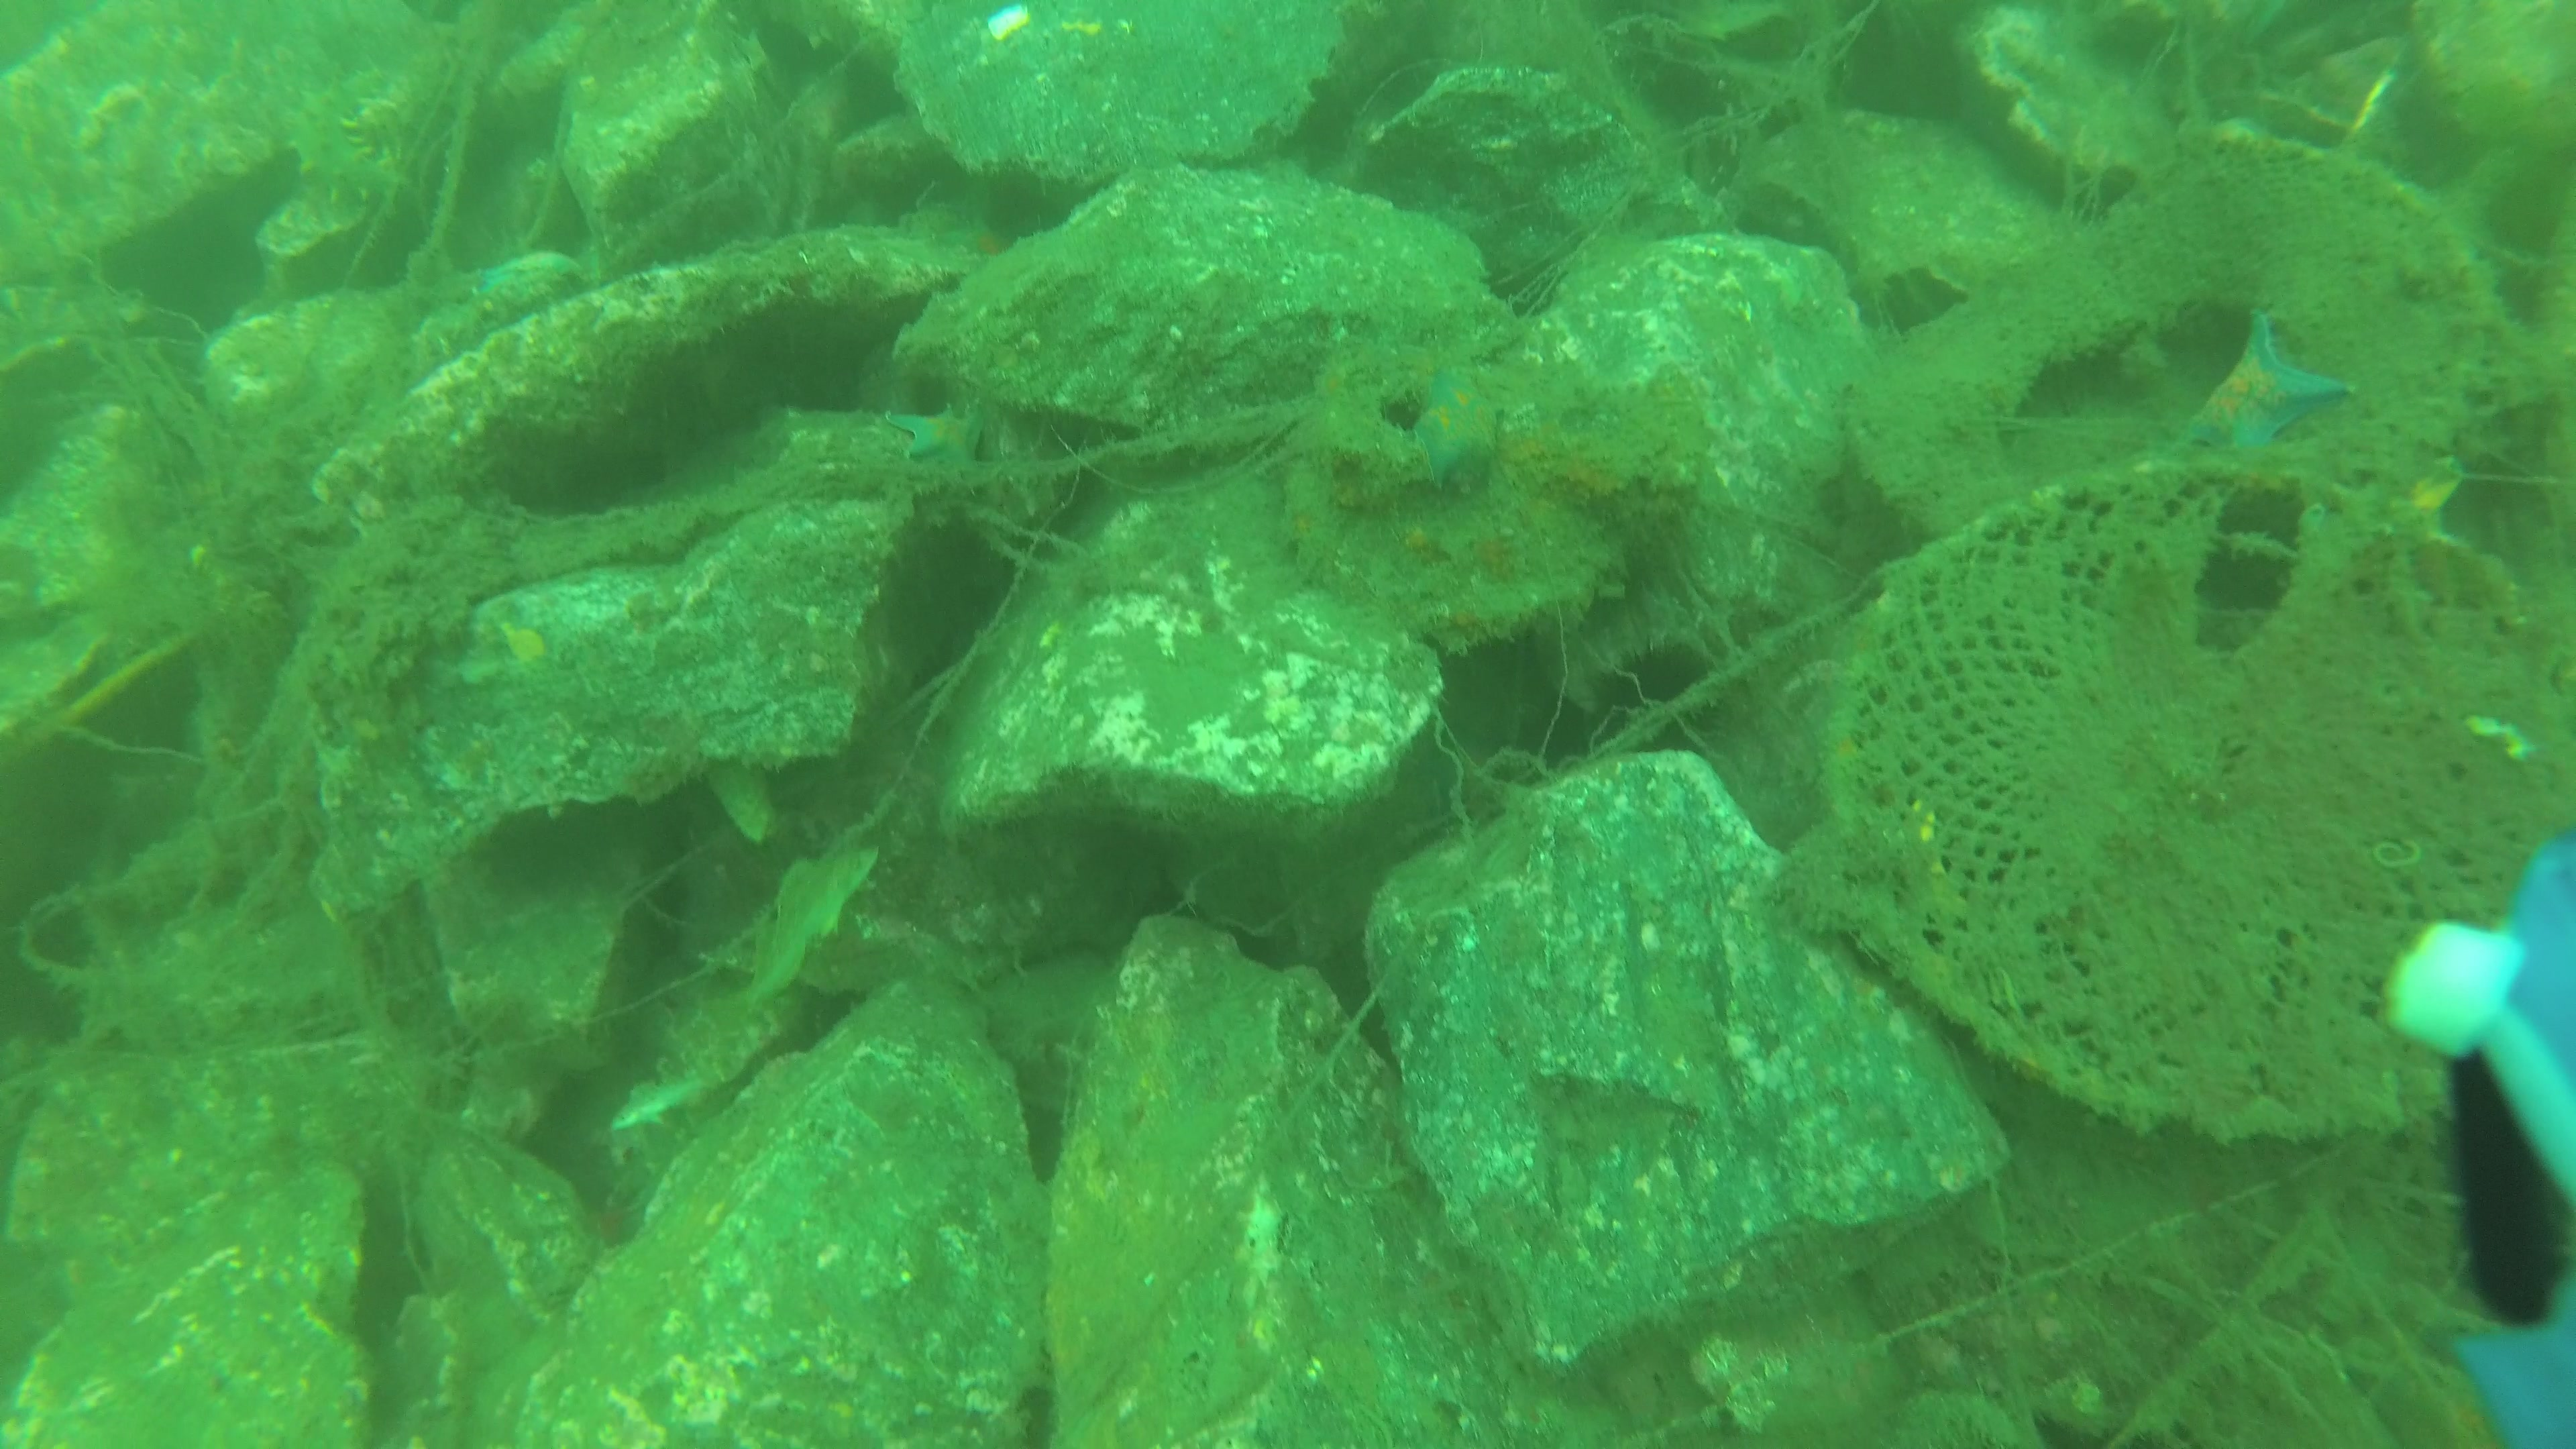holothurian: (280, 57, 403, 211)
starfish: (2178, 303, 2357, 467), (1408, 363, 1504, 497), (883, 396, 989, 471), (474, 248, 589, 303), (931, 207, 1019, 264)
